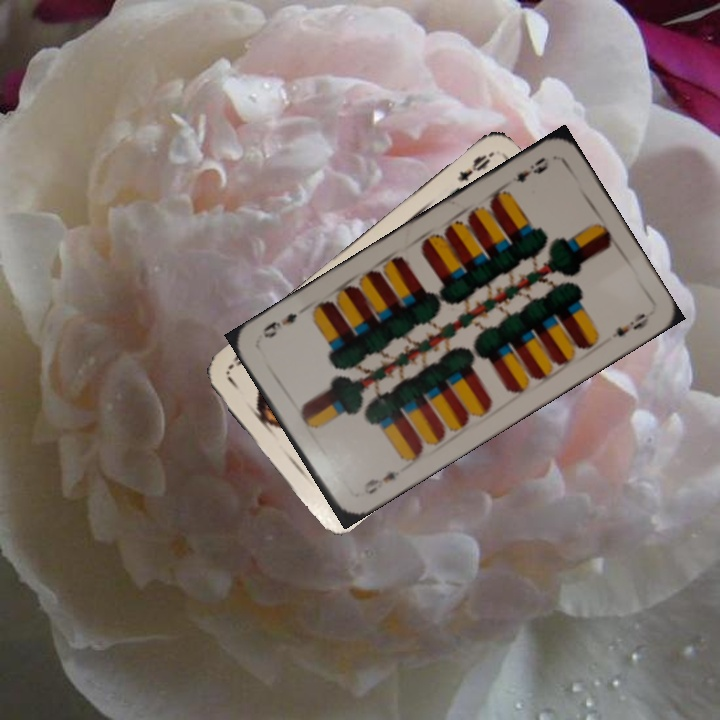E9: (508, 153, 552, 186), (359, 467, 403, 497)
EO: (452, 147, 497, 184)
